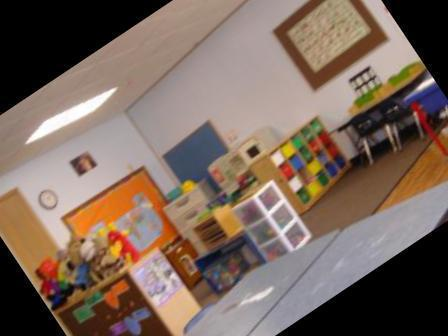Bote de Basura: (441, 101, 448, 171)
